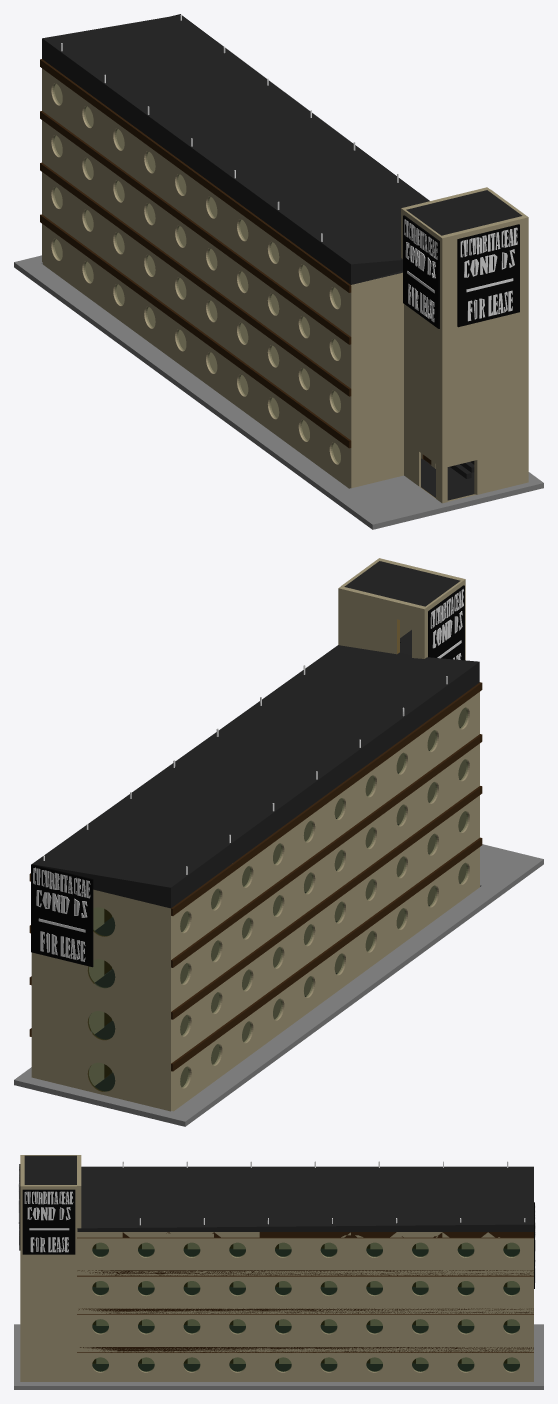
File: Gourd Apartments.glb
3 views of the same model, one above another, from view 1: azimuth 30°, elevation 25°; view 2: azimuth 150°, elevation 25°; view 3: azimuth 270°, elevation 25° (orthographic). The views are drawn at different scales.
Parts seen in each view (by area): view 1: Walls, Roof, Ground, Signs, Corridor Floors; view 2: Walls, Roof, Ground, Signs, Corridor Floors; view 3: Walls, Roof, Ground, Signs, Doors.
Part boxes in pixels (bbox=[...]): Walls: bbox=[40, 59, 528, 503]; Roof: bbox=[42, 14, 429, 284]; Ground: bbox=[14, 255, 543, 529]; Signs: bbox=[172, 14, 519, 328]; Corridor Floors: bbox=[421, 458, 474, 500]; Walls: bbox=[29, 558, 482, 1111]; Roof: bbox=[32, 645, 479, 908]; Ground: bbox=[14, 844, 543, 1126]; Signs: bbox=[31, 585, 464, 967]; Corridor Floors: bbox=[95, 918, 115, 1091]; Walls: bbox=[20, 1155, 533, 1381]; Roof: bbox=[77, 1166, 533, 1231]; Ground: bbox=[14, 1324, 543, 1389]; Signs: bbox=[18, 1164, 535, 1288]; Doors: bbox=[92, 1244, 507, 1363].
Size of what is drawn, in the model's own units: 10.55 by 15.91 by 38.27.
